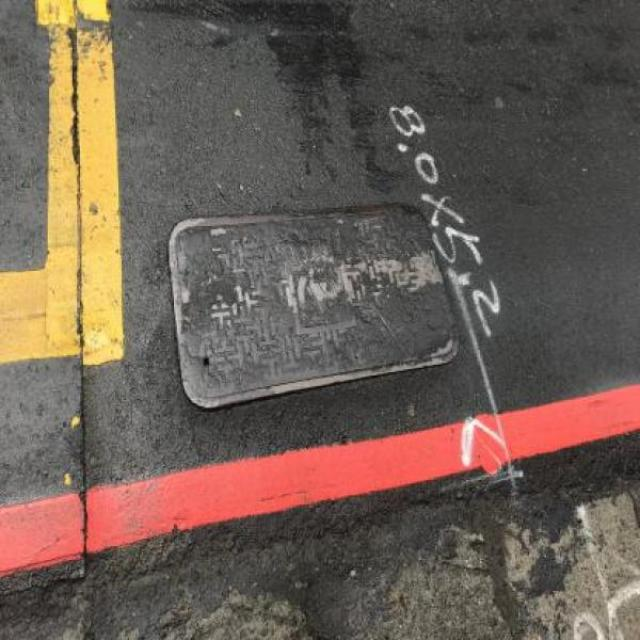Good: (160, 203, 467, 418)
